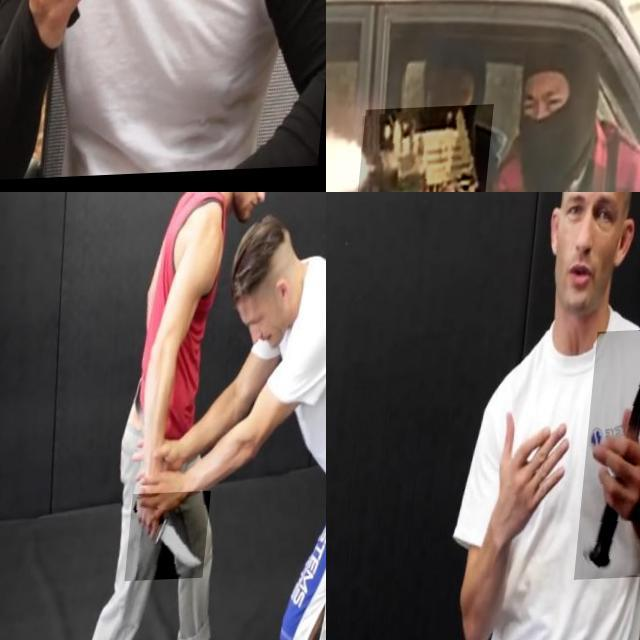-: (10, 0, 122, 144), (583, 333, 640, 584), (135, 493, 220, 582)
gun-knife-thesis - v11 Yolov5 augmented: (356, 108, 499, 192)
